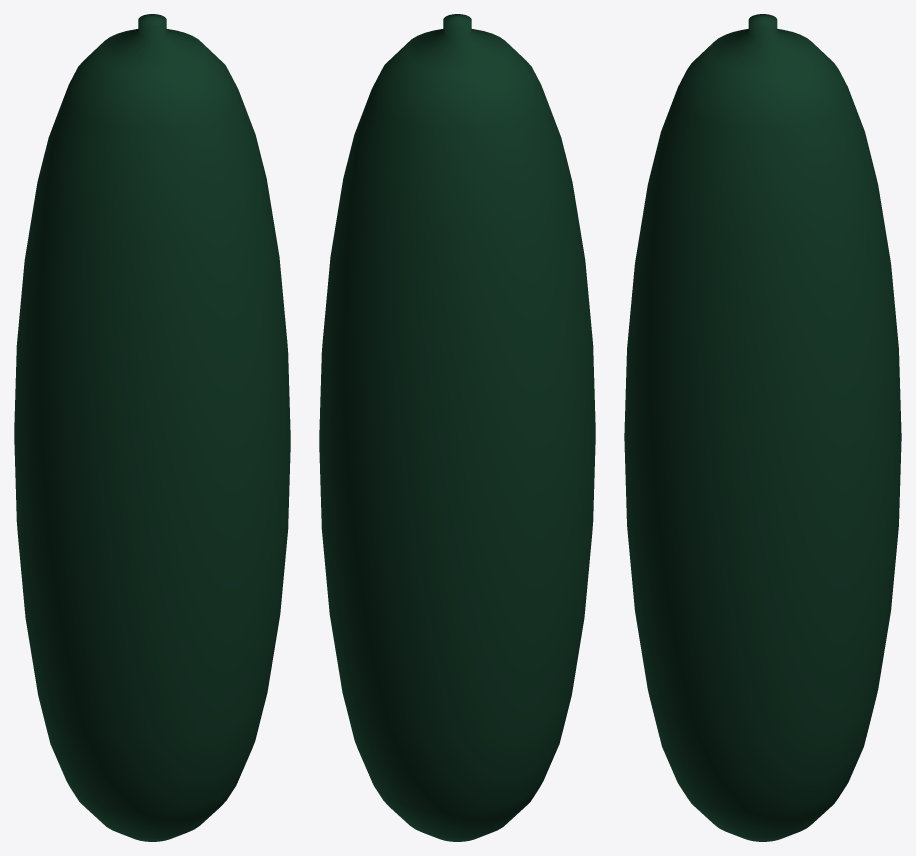
File: just-cucumber.fbx
3 renders of one model, left to right at view 1: azimuth 30°, elevation 25°; view 2: azimuth 150°, elevation 25°; view 3: azimuth 270°, elevation 25°, orthographic.
Visible parts, largest first — view 1: cucumber 1; view 2: cucumber 1; view 3: cucumber 1.
Part boxes in pixels (<box>): cucumber 1: <box>14,14,290,841</box>; cucumber 1: <box>319,14,595,841</box>; cucumber 1: <box>624,14,901,841</box>.
Size of the model in its own units: 74.82 by 244 by 74.82.
